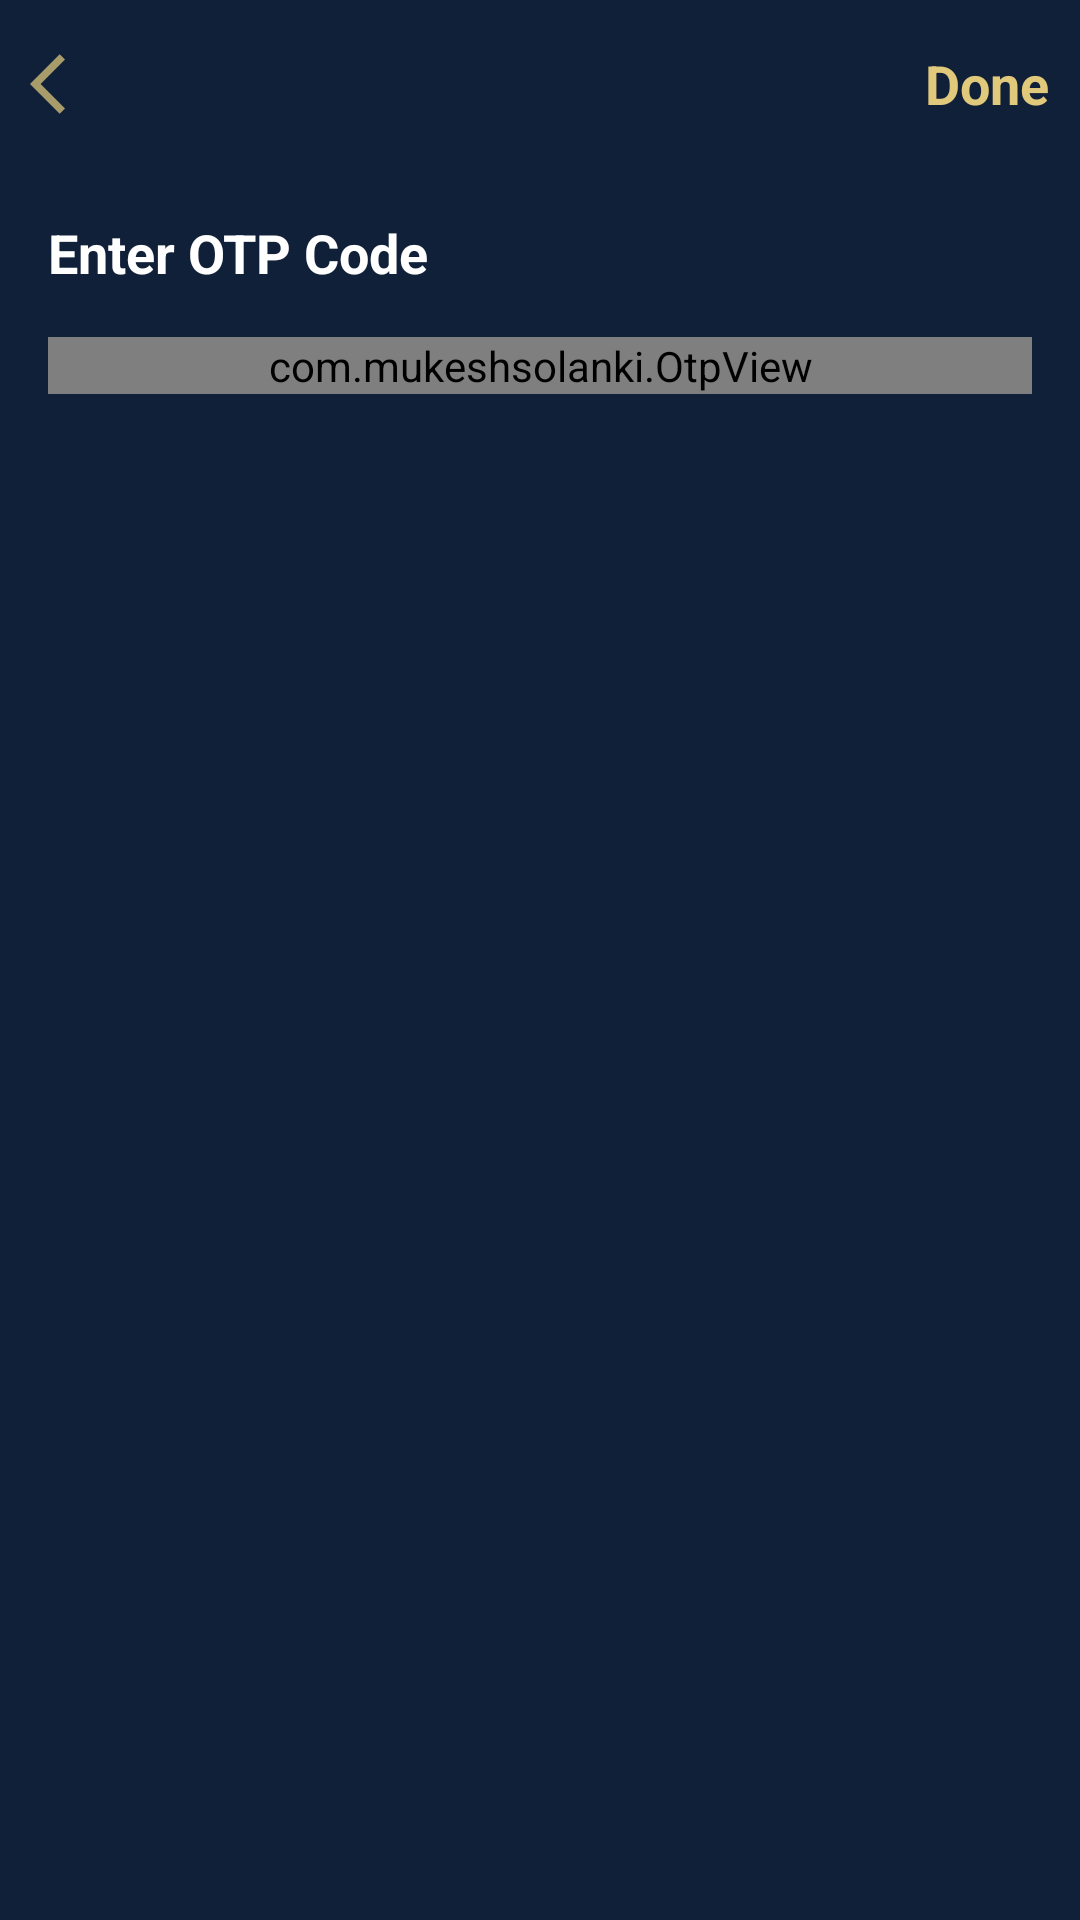

Screen size 1080x1920. Icon name, then its box in pixels as (x1, y1, x2, y2):
arrow back: (30, 54, 65, 114)
